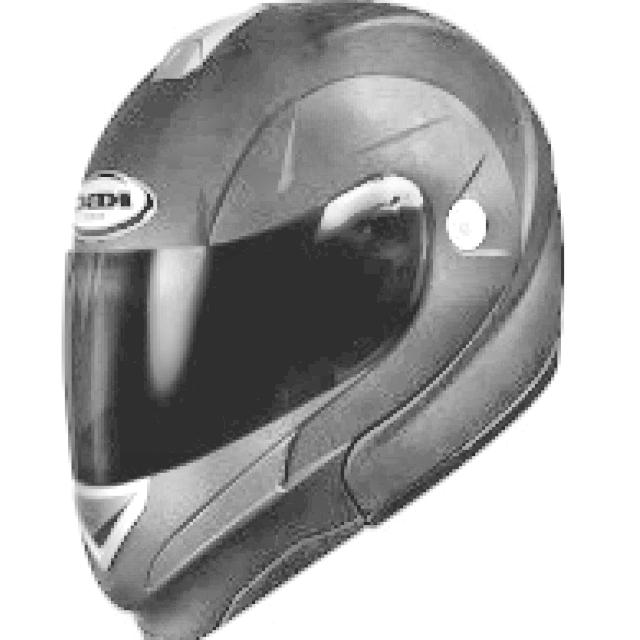Helmet: (40, 0, 567, 640)
